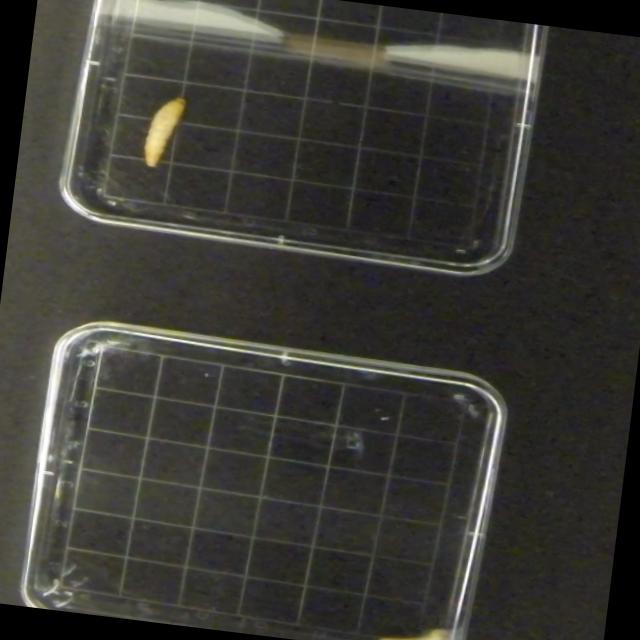larva: (136, 89, 194, 172), (375, 621, 454, 640)
